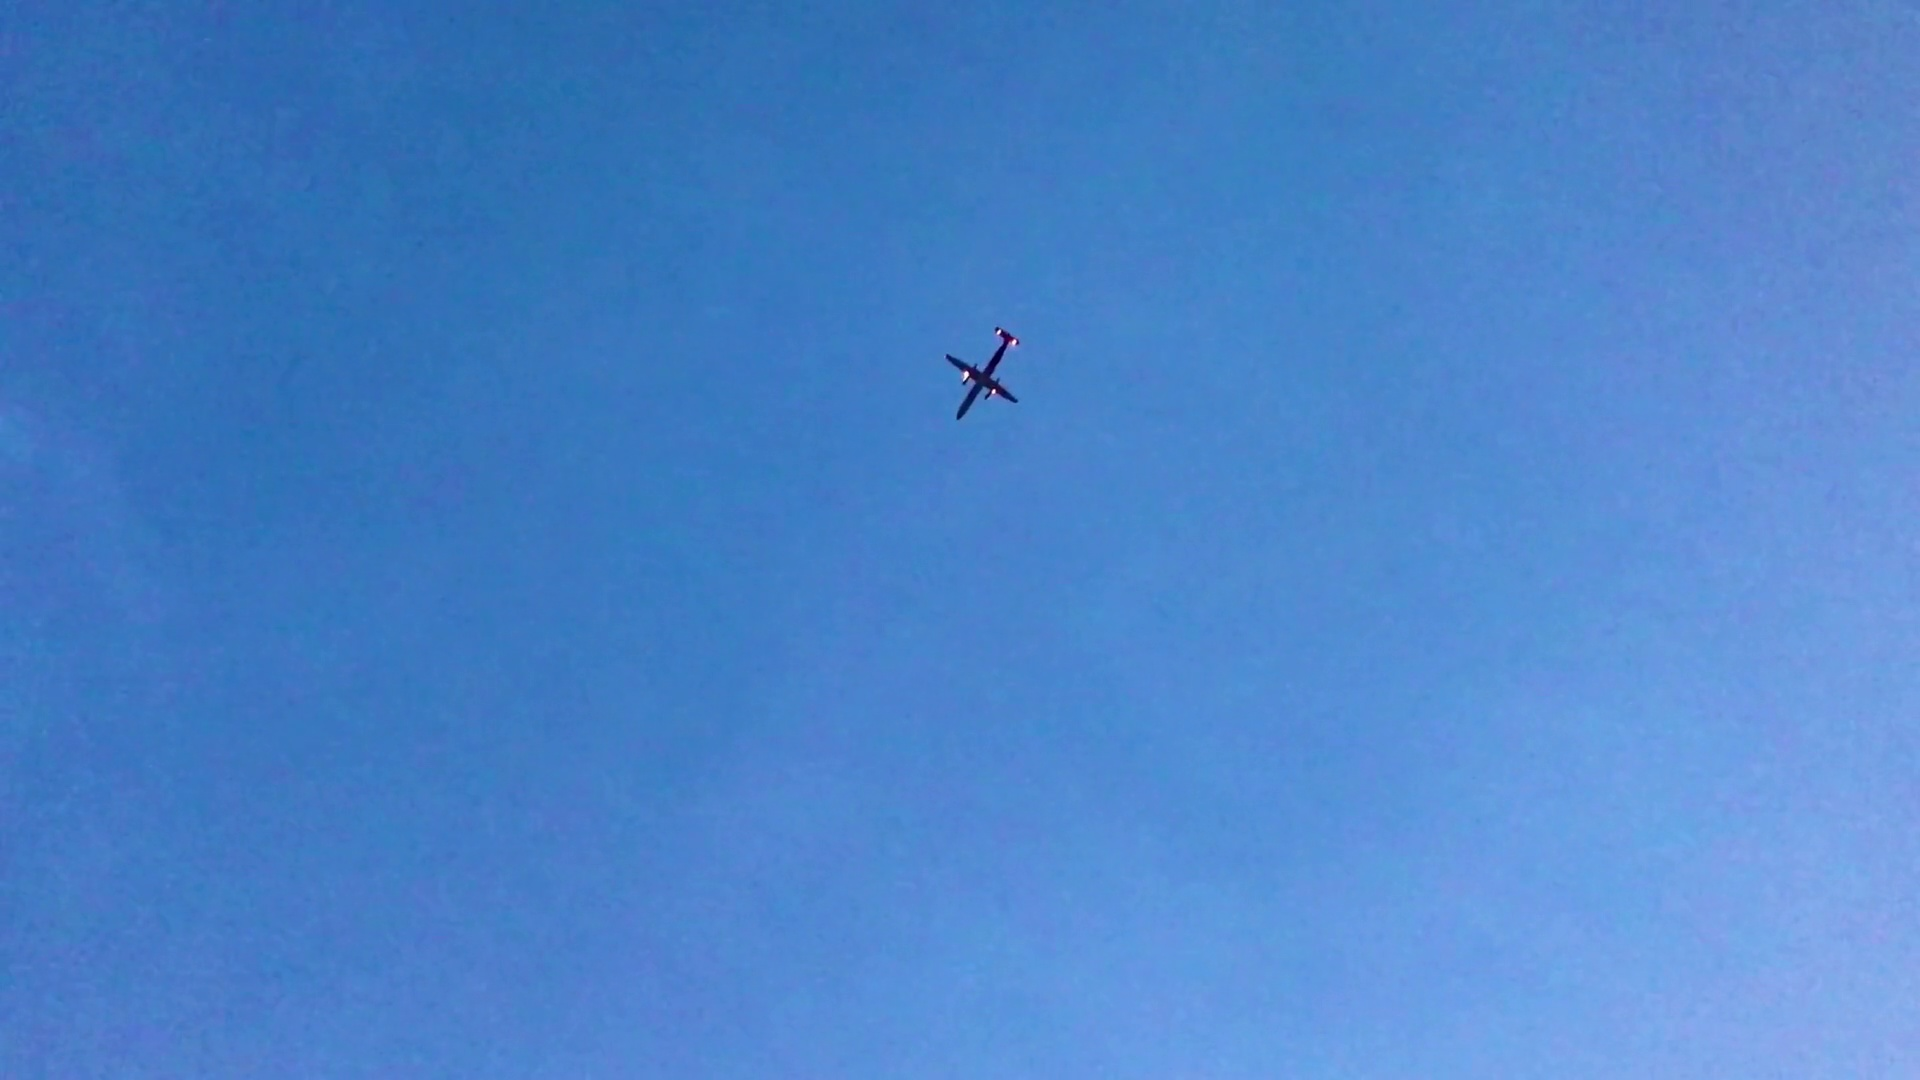plane: (943, 326, 1021, 421)
